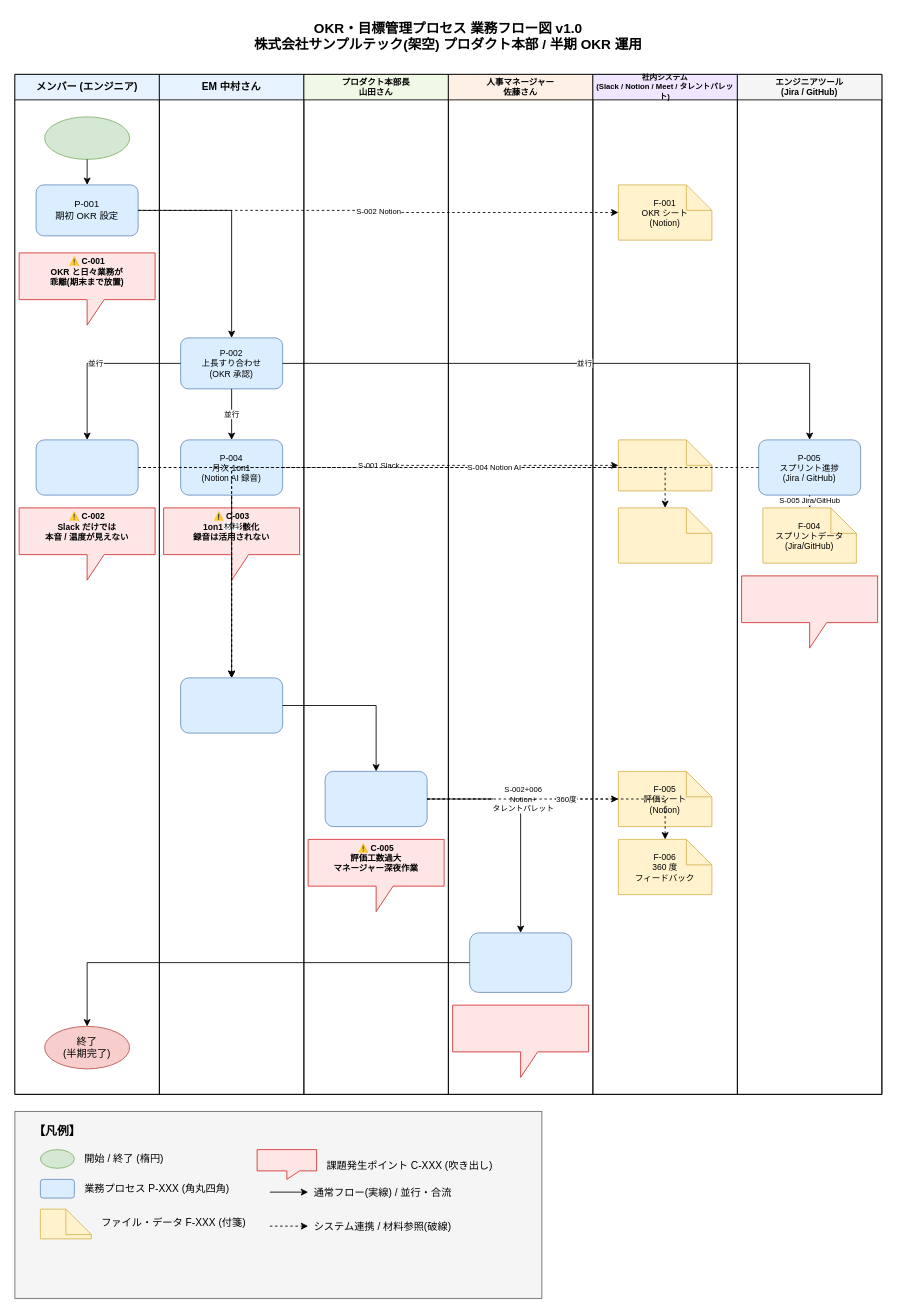
Some shapes in this 897 by 1313 pixel diagram are drawn without their labels. Each missing label, with the centre of its shape:
F-002 1on1 議事録 (Notion AI): (665,535)
F-003 Slack ログ: (665,465)
P-003 日次・週次の 進捗報告: (86,467)
P-006 中間レビュー (2 ヶ月に 1 回): (231,705)
P-007 半期評価入力 (自己 → 上司): (375,799)
P-008 評価会議 → フィードバック面談: (520,962)
⚠️ C-004 OKR とスプリント が紐付かない: (809,611)
⚠️ C-006 評価指標が 半期ごとに変動: (520,1040)
開始 (半期スタート): (87,137)
